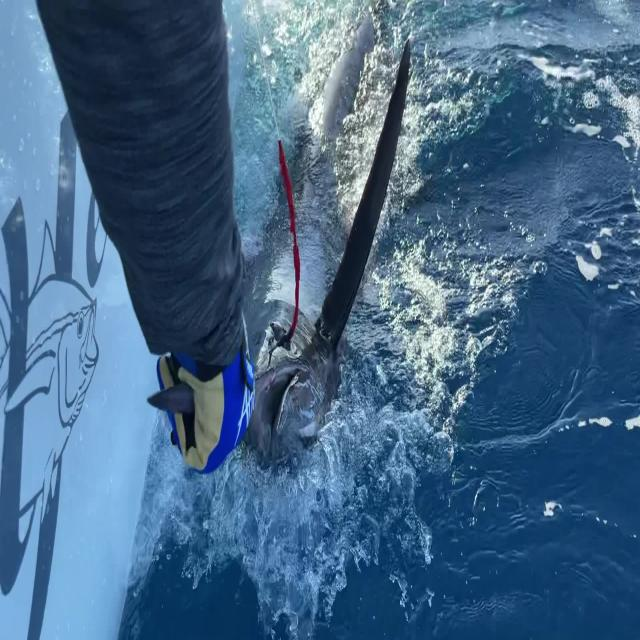Liberacion segura: (145, 7, 411, 480)
